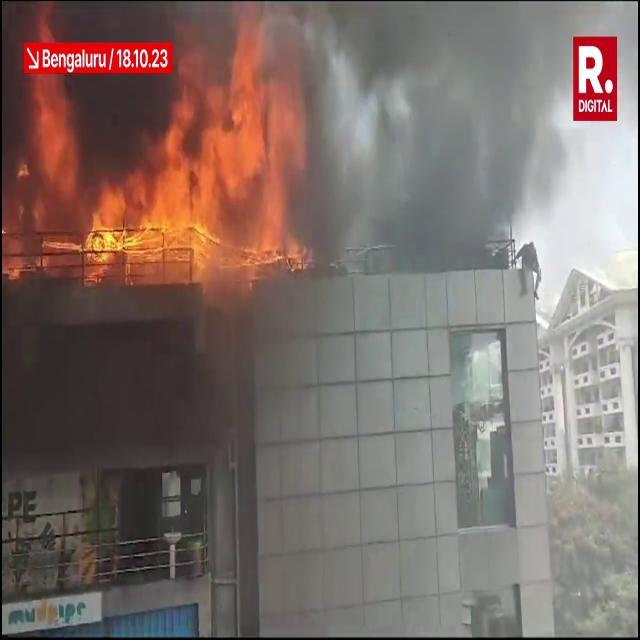Fire: (45, 36, 317, 279)
Smoke: (285, 2, 582, 273)
